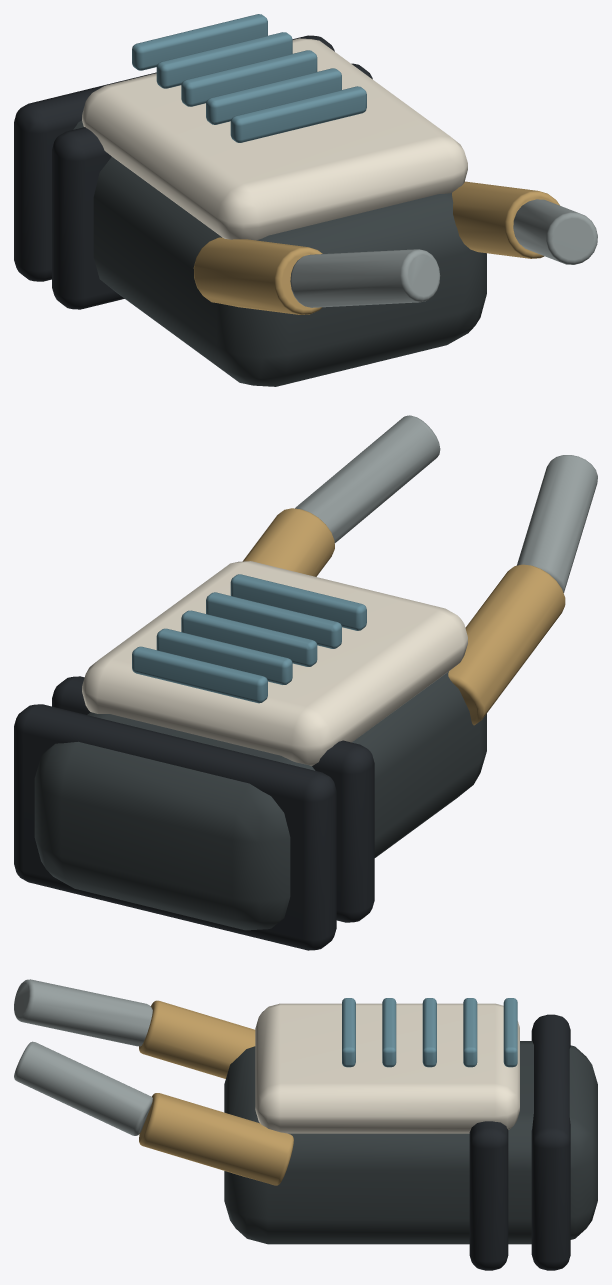
Rendered from EQP_GravityGlove.fbx.
3 views of the same model, one above another, from view 1: azimuth 30°, elevation 25°; view 2: azimuth 150°, elevation 25°; view 3: azimuth 270°, elevation 25° (orthographic). The views are drawn at different scales.
Parts seen in each view (by area): view 1: EQP_GravityGlove; view 2: EQP_GravityGlove; view 3: EQP_GravityGlove.
Boxes of the visible parts, box(x1,y1,x2,y2) form: EQP_GravityGlove: box(14, 14, 597, 386); EQP_GravityGlove: box(14, 415, 597, 950); EQP_GravityGlove: box(14, 979, 597, 1270).
Size of the model in its own units: 0.19 by 0.1423 by 0.375.
